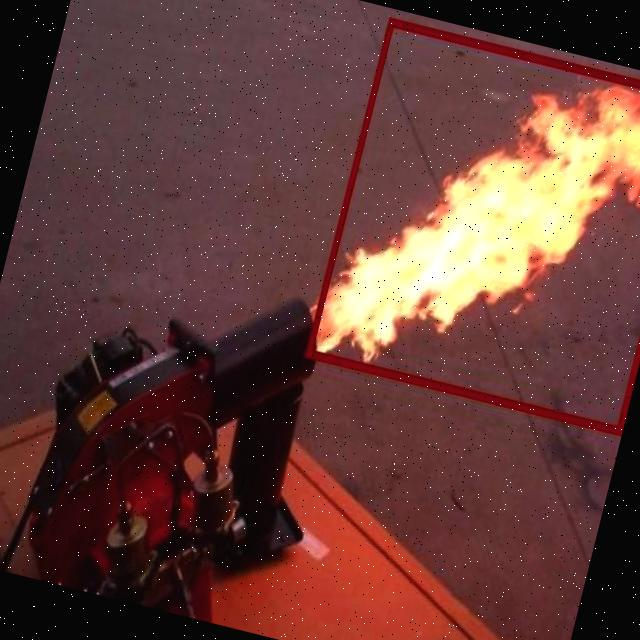fire: (307, 17, 640, 434)
